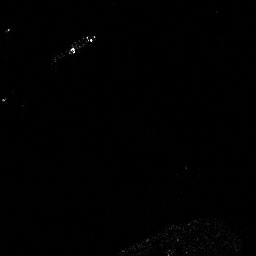ship: (68, 33, 96, 55)
